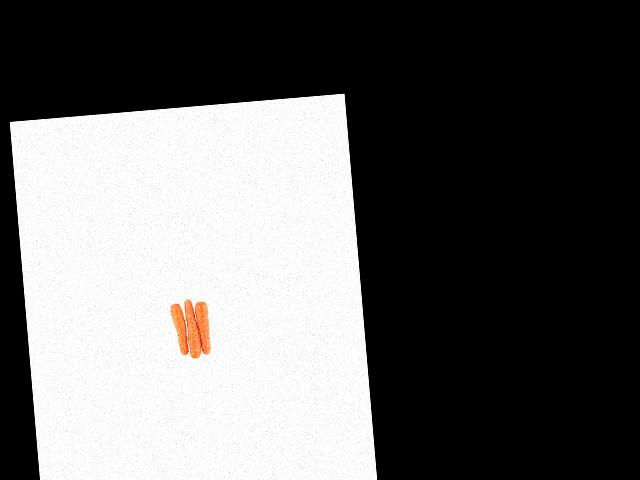carrot: (195, 297, 213, 360)
